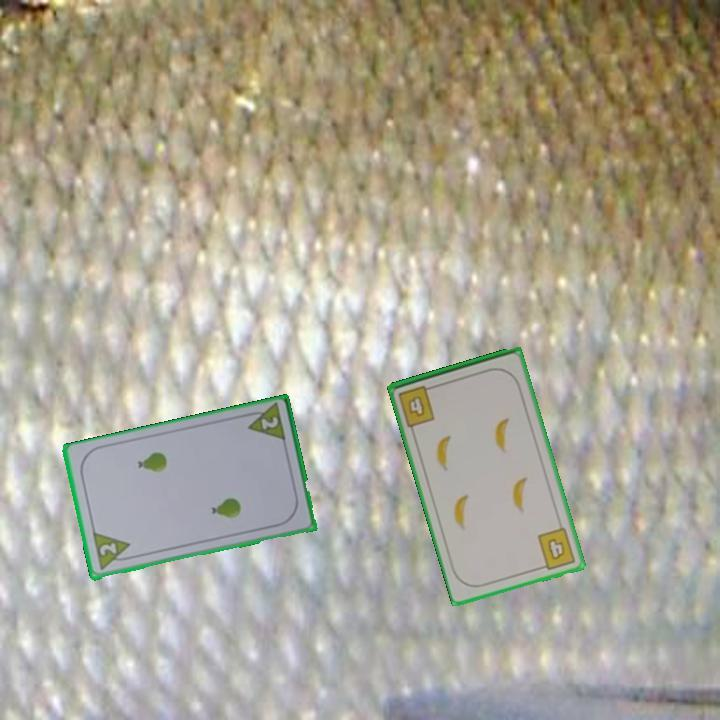2p: (89, 530, 136, 574), (241, 401, 288, 445)
4b: (534, 524, 579, 573), (395, 382, 438, 430)
